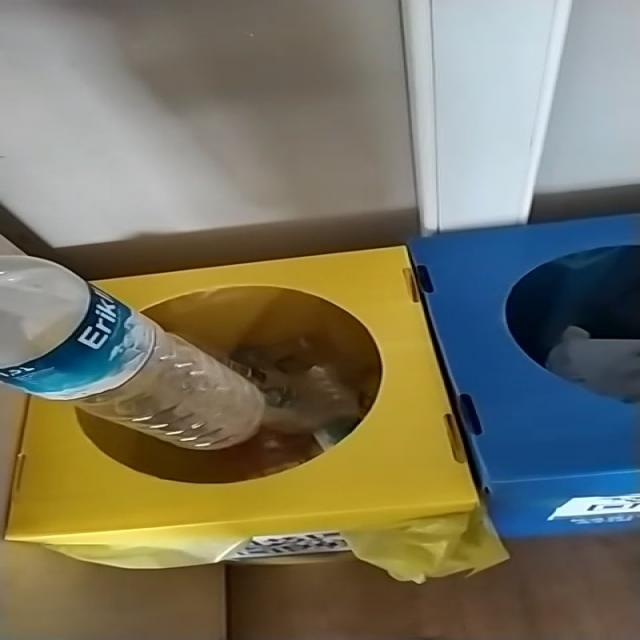plastic: (2, 256, 269, 450)
